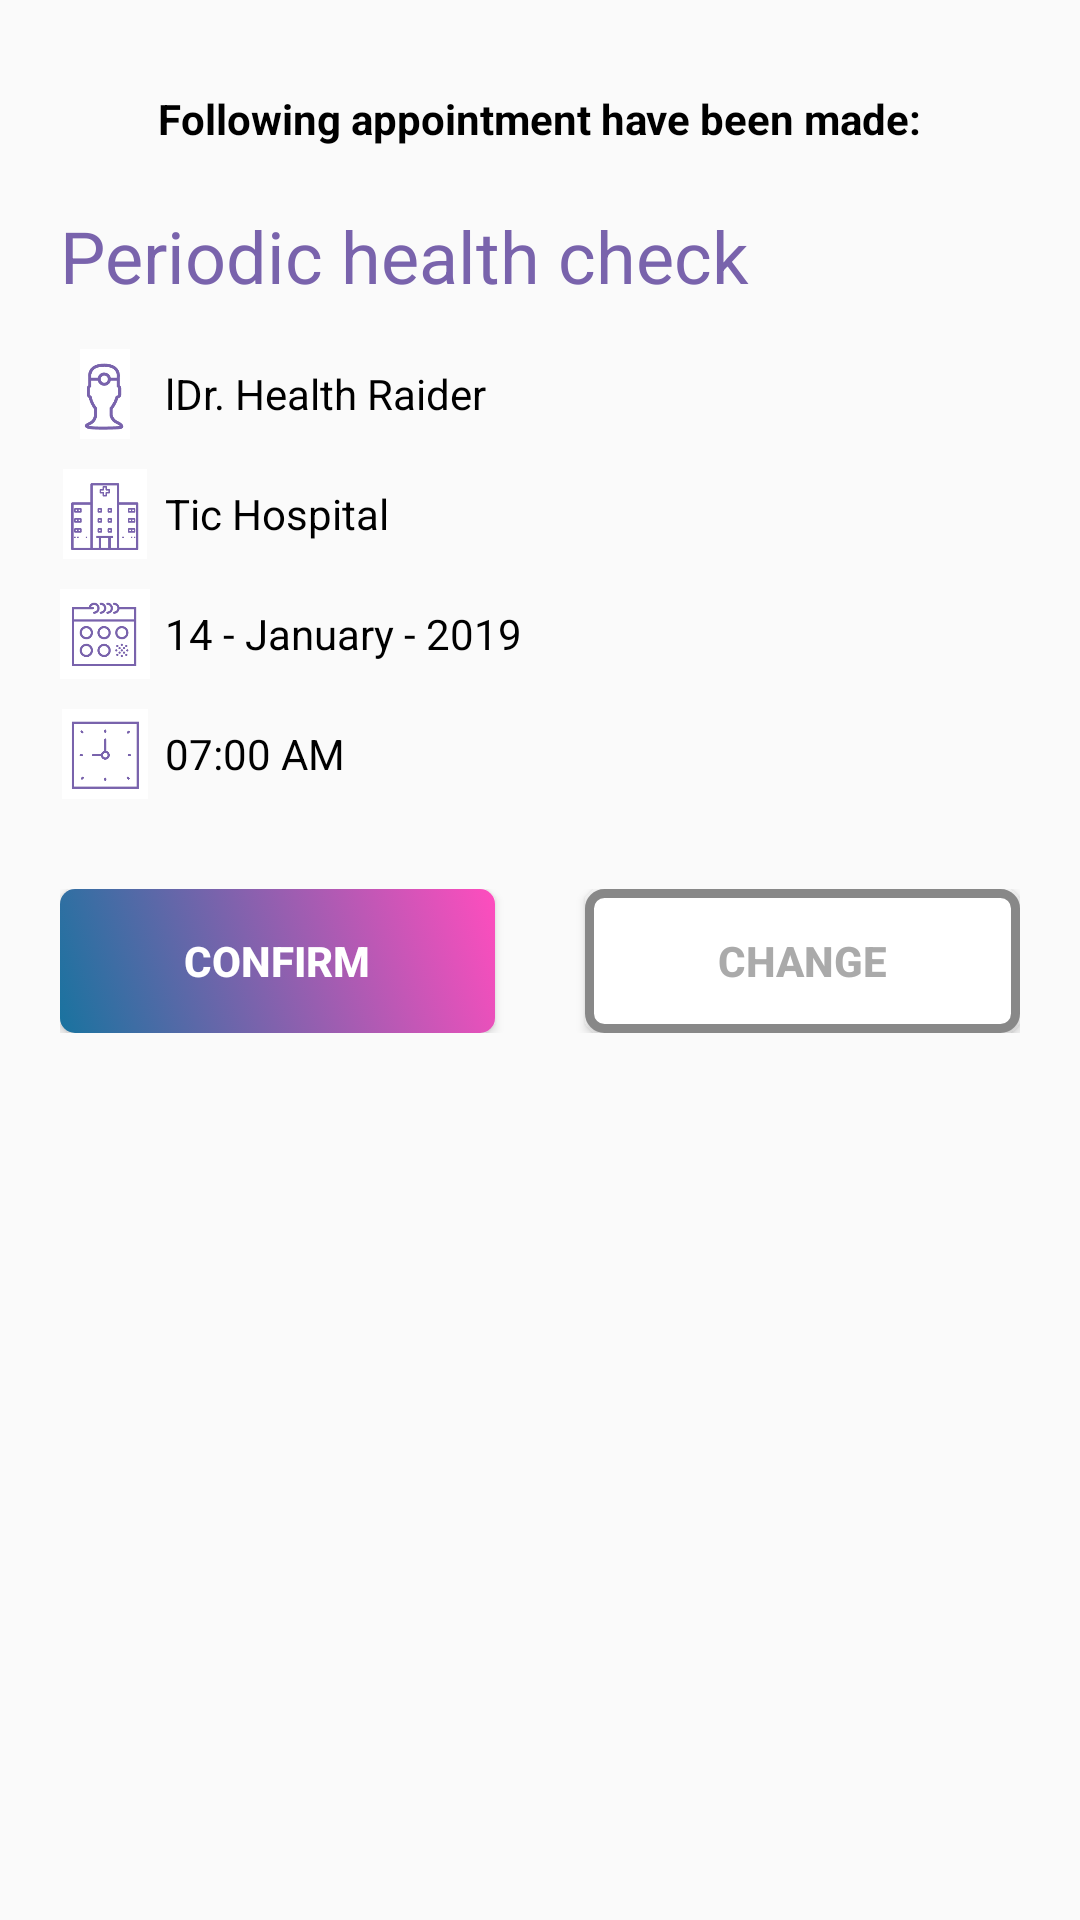

Screen size 1080 x 1920. Icon name, then its box in pixels as [x1=x1, y1=y1, x2=x2, y2=y2]:
calendar: [x1=72, y1=603, x2=136, y2=666]
clock: [x1=72, y1=721, x2=139, y2=789]
doctor: [x1=85, y1=363, x2=124, y2=430]
